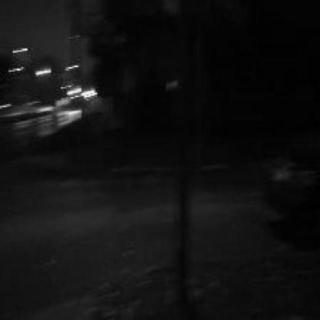other: (26, 63, 53, 75)
